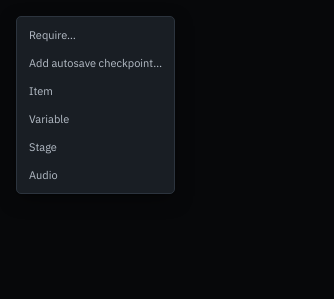
Test: InkContextMenu › offers only items for giving, and only stats for changing
Hover over the menu item "Item" at (96, 91), box [21,77,170,105]
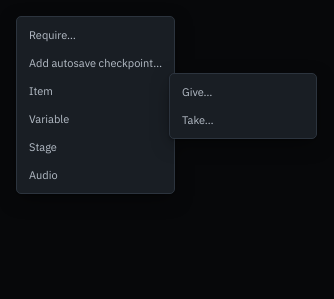
Click the menu item "Give…" at (243, 92), box [174,78,312,106]
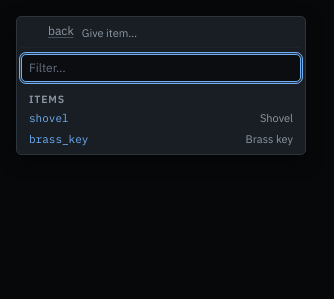
Expected: the button "strength" is not shown
Result: the button "shovel Shovel" is shown at [21,108,301,129]
Click the button "back" at (51, 30), box [29,24,74,37]
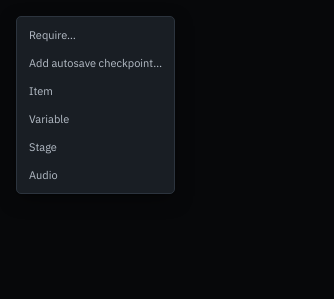
Hover over the menu item "Variable" at (96, 119), box [21,105,170,133]
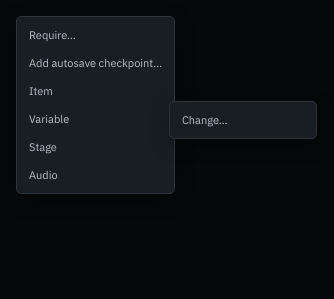
Click the menu item "Change…" at (243, 120), box [174,106,312,134]
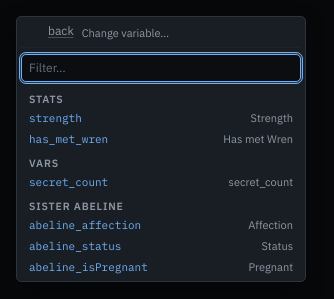
Expected: the button "shovel" is not shown
Result: the button "strength Strength" is shown at [21,108,301,129]
